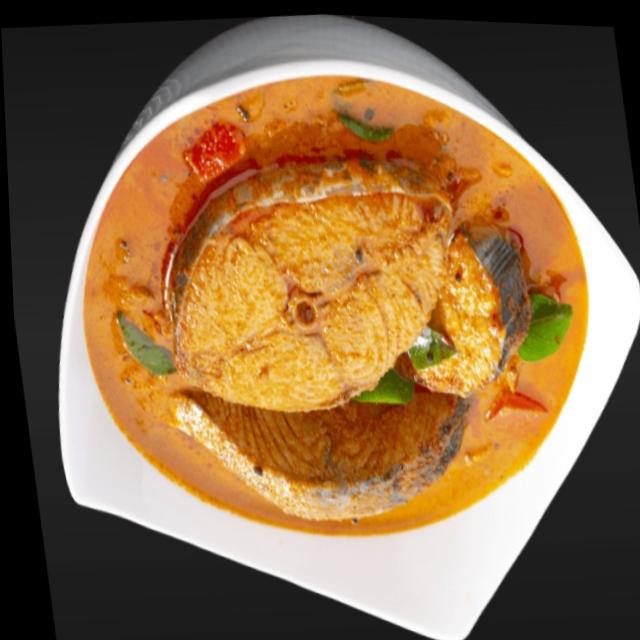FISH CURRY: (82, 75, 587, 533)
